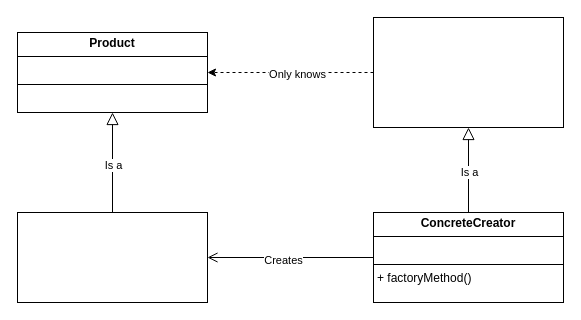
Some shapes in this 581 by 320 pixel diagram are drawn without their labels. The shapes that lost their labels are listed below. From the top down, each one's centre as x and y in pixels, then its label:
At point 468,72: "Creator + factoryMethod() + anOperation()".
At point 112,257: "ConcreteProduct".
